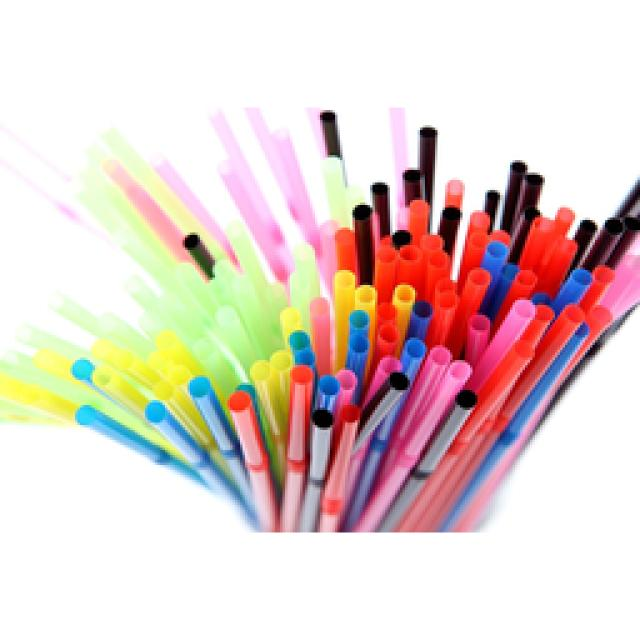plastic: (0, 108, 638, 530)
